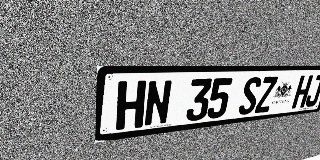3: (185, 78, 213, 122)
5: (206, 78, 233, 119)
H: (116, 80, 146, 130), (291, 75, 313, 109)
J: (304, 75, 320, 107)
N: (143, 80, 173, 127)
S: (237, 77, 262, 115)
Z: (254, 76, 278, 113)
